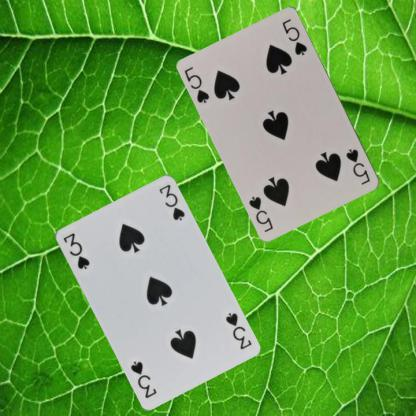3s: (60, 230, 91, 271), (223, 310, 253, 350)
5s: (343, 146, 372, 187), (182, 64, 211, 105)
